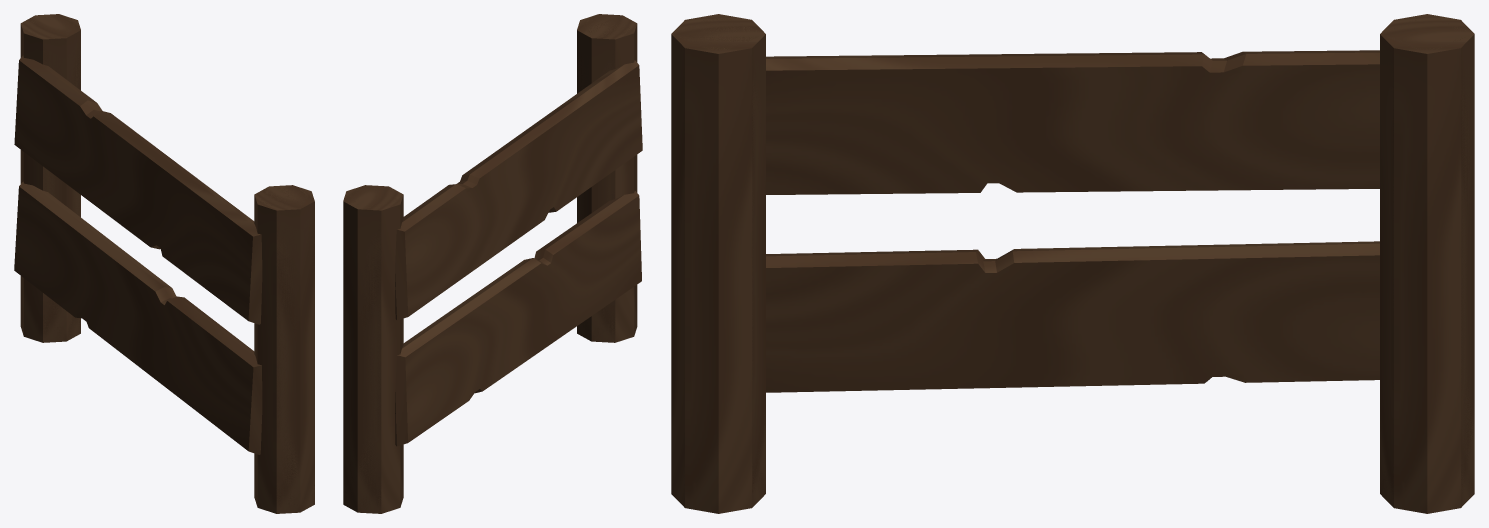
Rendered from fence.glb.
3 views of the same model, side by side, from view 1: azimuth 30°, elevation 25°; view 2: azimuth 150°, elevation 25°; view 3: azimuth 270°, elevation 25° (orthographic). The views are drawn at different scales.
Parts seen in each view (by area): view 1: fence; view 2: fence; view 3: fence.
Boxes of the visible parts, box(x1,y1,x2,y2) form: fence: box(14, 14, 314, 513); fence: box(343, 14, 642, 513); fence: box(671, 14, 1474, 513).
Bounding box in the file's own units: 0.3258 × 1.5 × 2.37.
1 material, 1 textured.
